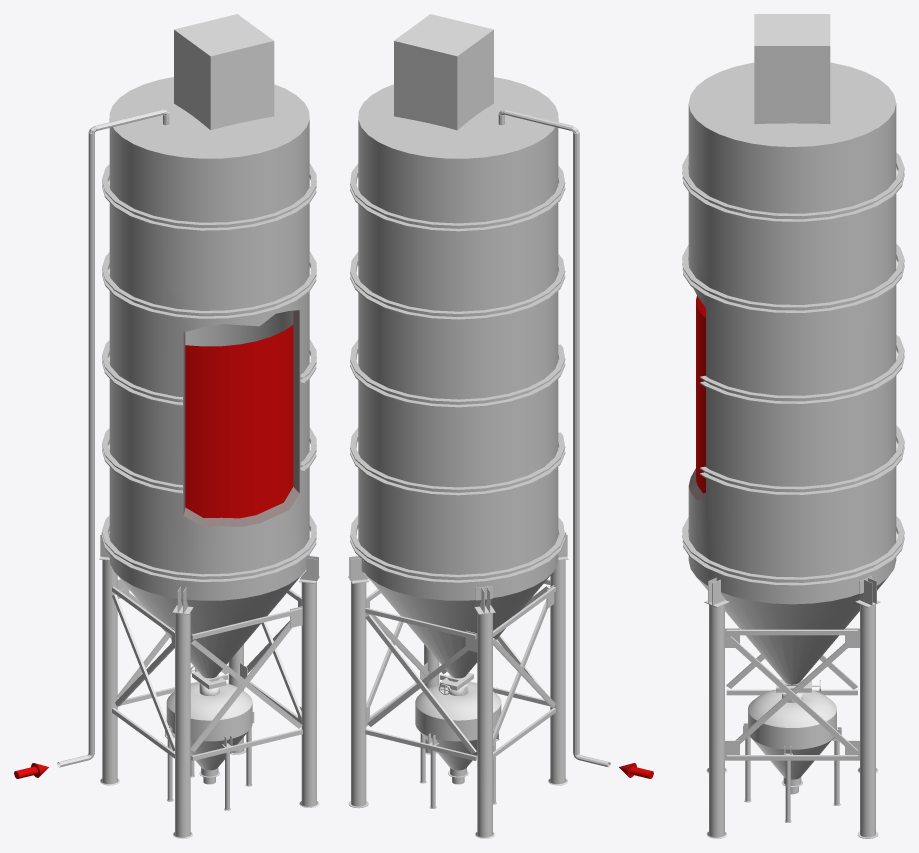
File: Left upper image canister only scene_v003.fbx
3 renders of one model, left to right at view 1: azimuth 30°, elevation 25°; view 2: azimuth 150°, elevation 25°; view 3: azimuth 270°, elevation 25°, orthographic. The views are drawn at different scales.
Parts seen in each view (by area): view 1: polySurface906, polySurface908, polySurface108, polySurface907, polySurface113, polySurface268, polySurface263, polySurface271, polySurface879, polySurface883, polySurface880, polySurface889 (+6 smaller); view 2: polySurface906, polySurface108, polySurface907, polySurface113, polySurface271, polySurface278, polySurface268, polySurface879, polySurface880, polySurface882, polySurface883, polySurface909 (+5 smaller); view 3: polySurface906, polySurface108, polySurface907, polySurface263, polySurface278, polySurface880, polySurface879, polySurface883, polySurface882, polySurface909, polySurface889, polySurface908 (+7 smaller).
Boxes of the visible parts, x1,y1,x2,y2 form: polySurface906: (109,77,309,678); polySurface908: (185,325,293,518); polySurface108: (174,14,274,130); polySurface907: (116,80,302,155); polySurface113: (88,133,94,754); polySurface268: (173,612,192,838); polySurface263: (299,582,319,807); polySurface271: (100,560,119,785); polySurface879: (102,163,316,231); polySurface883: (102,515,316,583); polySurface880: (102,251,316,319); polySurface889: (166,682,252,720); polySurface906: (358,77,558,678); polySurface108: (394,14,493,130); polySurface907: (365,80,551,155); polySurface113: (573,133,579,754); polySurface271: (475,612,494,838); polySurface278: (351,582,366,806); polySurface268: (548,560,567,785); polySurface879: (350,163,565,232); polySurface880: (350,252,565,320); polySurface882: (350,427,565,496); polySurface883: (350,515,565,583); polySurface909: (350,339,565,408); polySurface906: (688,62,896,684); polySurface108: (754,14,830,124); polySurface907: (696,66,888,143); polySurface263: (706,604,727,838); polySurface278: (860,604,875,837); polySurface880: (682,244,904,314); polySurface879: (682,152,904,223); polySurface883: (682,516,904,586); polySurface882: (700,425,904,496); polySurface909: (700,335,904,405); polySurface889: (748,689,836,727); polySurface908: (696,295,705,493).
Bounding box in the file's own units: 30 × 75.47 × 19.5.
